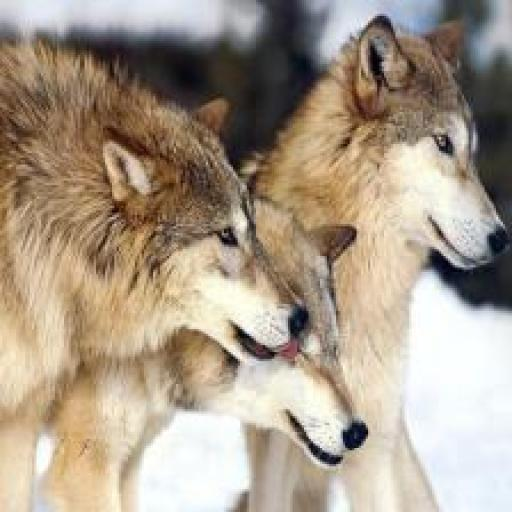wolf: (251, 0, 512, 512), (0, 16, 310, 395)
